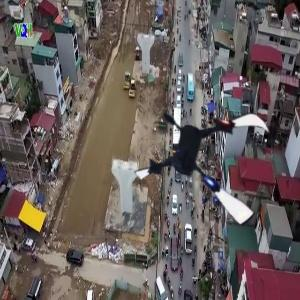drone: (137, 85, 285, 233)
